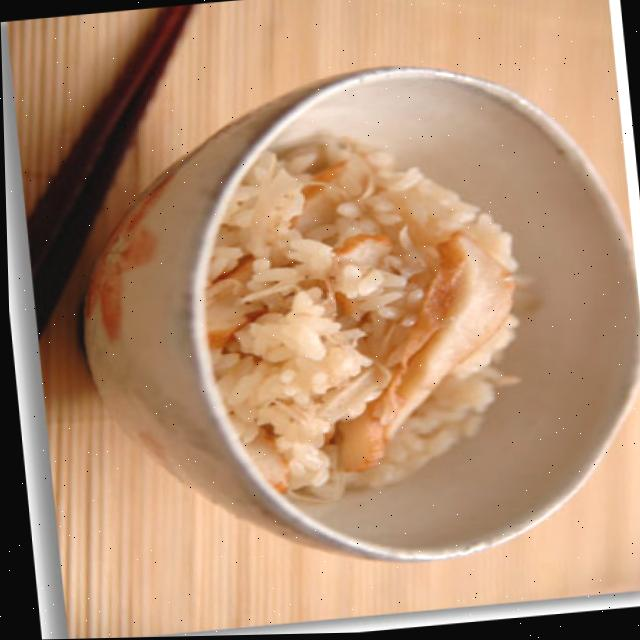米饭主食: (185, 124, 539, 512)
